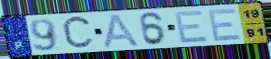6: (138, 11, 167, 47)
9: (30, 18, 60, 52)
A: (103, 13, 142, 49)
C: (60, 14, 96, 52)
E: (172, 9, 210, 45), (206, 7, 243, 43)
